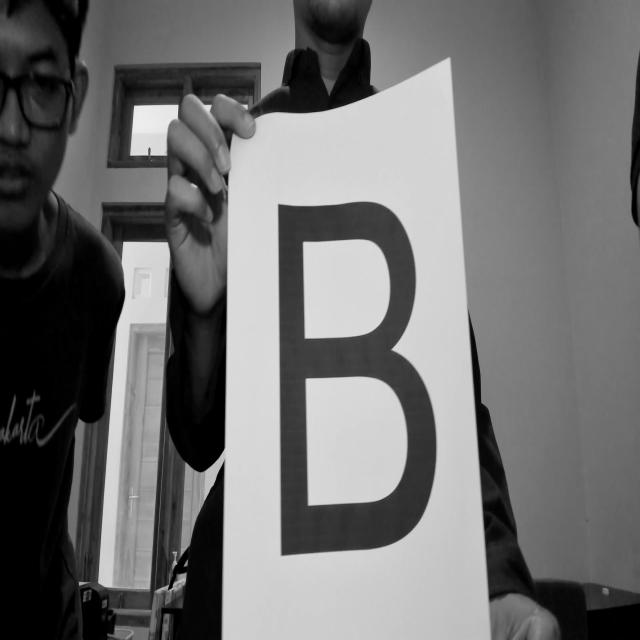b: (265, 170, 452, 574)
